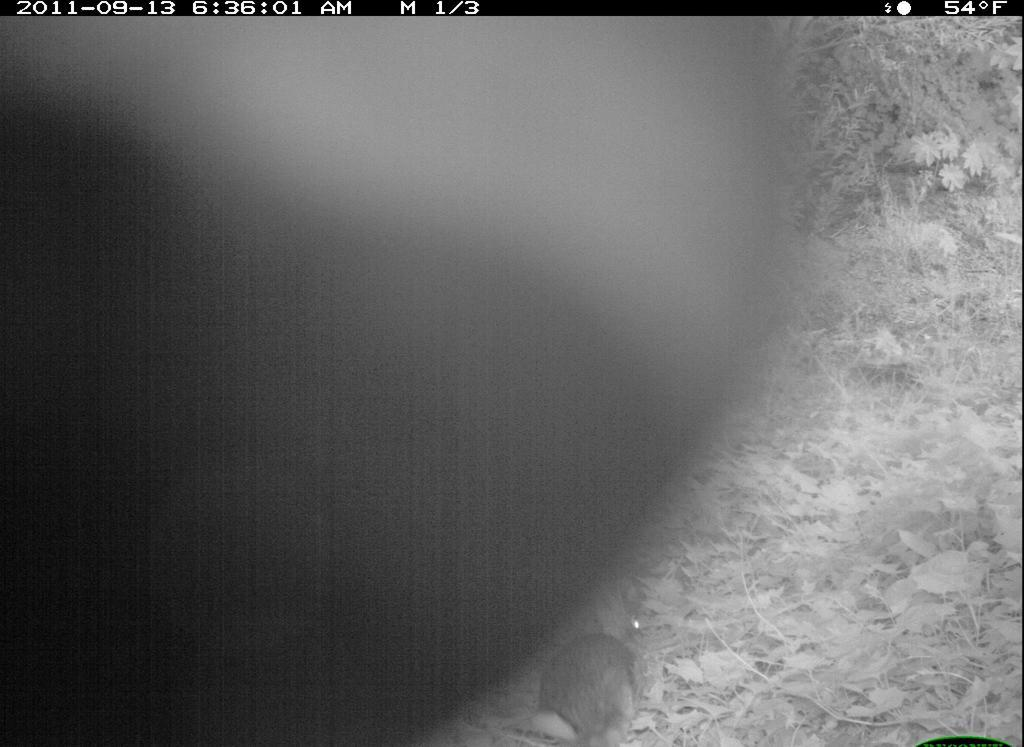rabbit: (518, 578, 670, 747)
